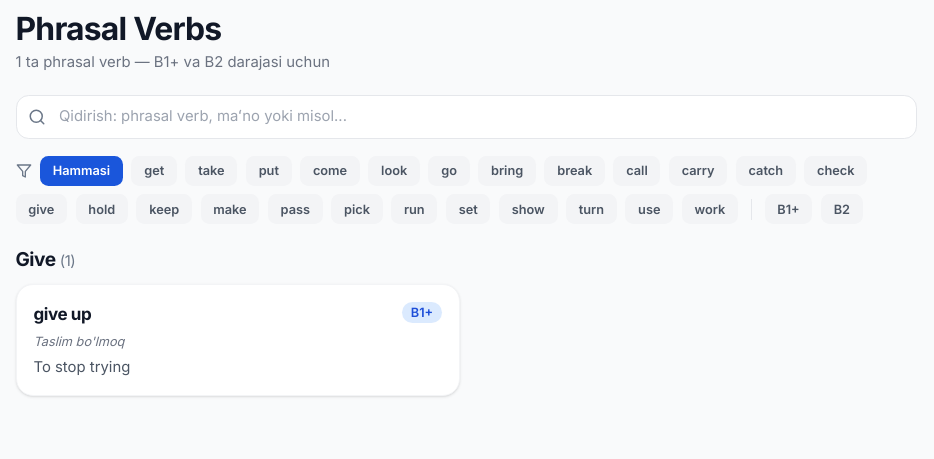
Test case: PhrasalVerbs › resets filter when clicking the same verb chip again
This screenshot has width=934, height=459.
Click the button "get": (154, 171) [132,156,177,186]
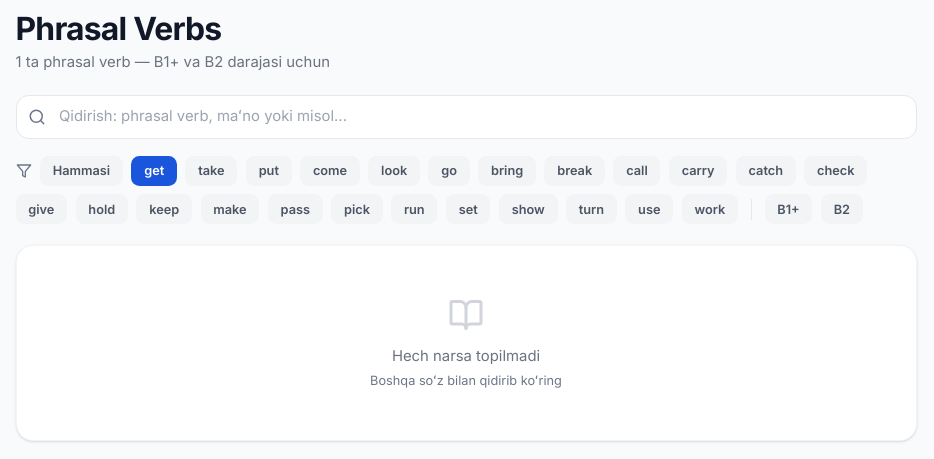
Now the button "give up" is gone
Click 'Barchasi' to show all
Click the button "Hammasi": (82, 171) [40,156,123,186]
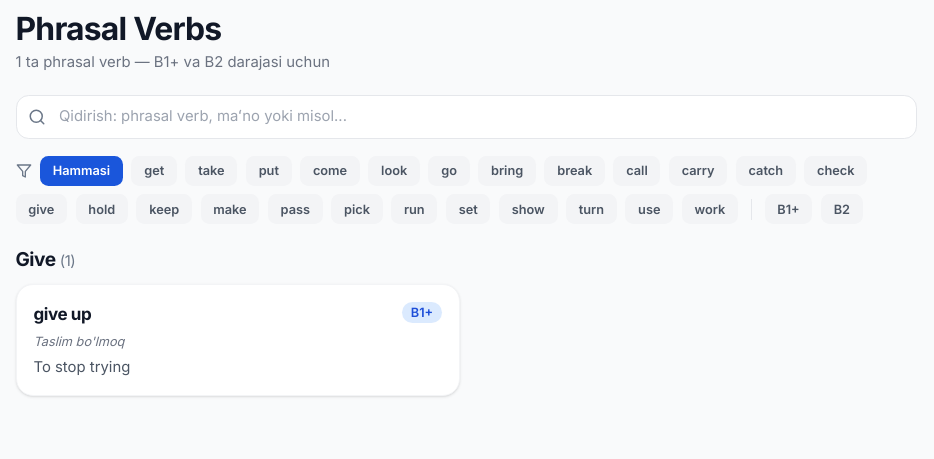
Now the heading "give up" is shown, box [34,302,91,327]
